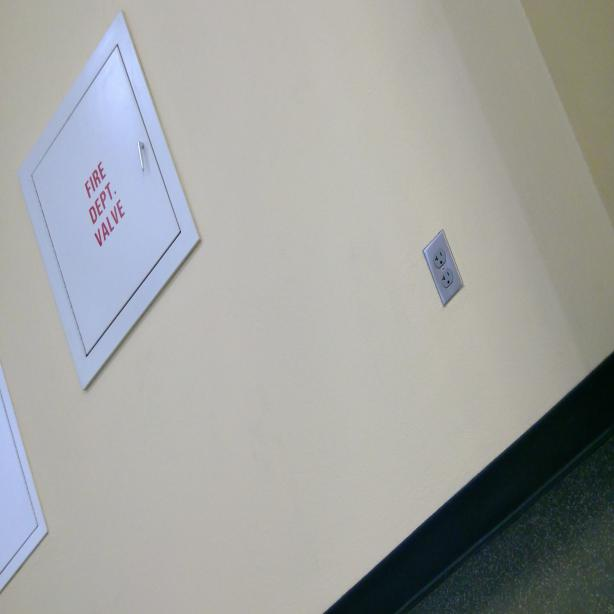typeb: (442, 269, 452, 288), (434, 249, 444, 266)
